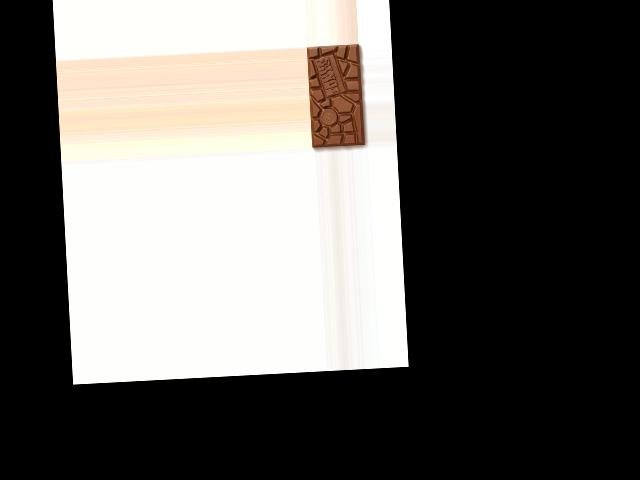chocolate: (307, 43, 367, 148)
